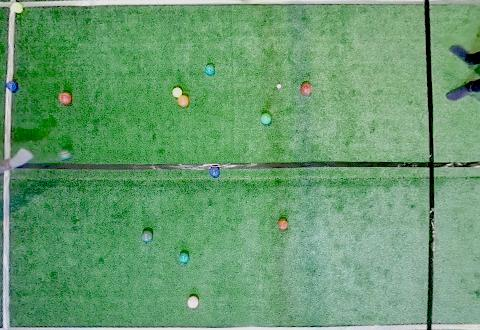blue: (5, 81, 18, 92), (209, 167, 220, 177)
green: (58, 148, 72, 160), (260, 113, 272, 125), (178, 252, 189, 264), (142, 230, 152, 242), (205, 64, 215, 75)
red: (58, 92, 72, 105), (187, 296, 199, 309), (177, 95, 190, 107), (300, 83, 312, 96), (278, 219, 288, 230)
vline: (424, 0, 479, 329), (0, 171, 12, 329), (0, 14, 17, 82), (0, 91, 13, 159)
white: (277, 84, 281, 88)
yellow: (10, 2, 23, 13), (172, 87, 182, 98)
